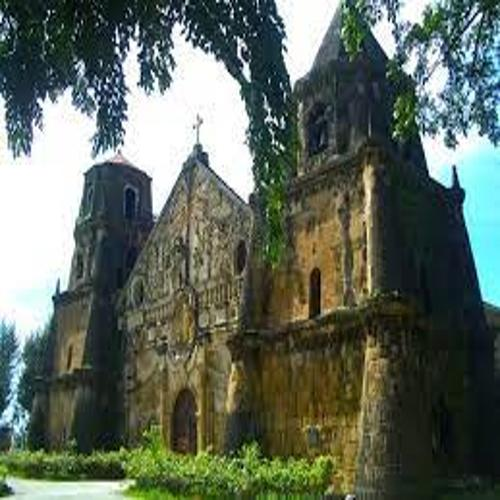Miagao Church: (48, 14, 462, 484)
